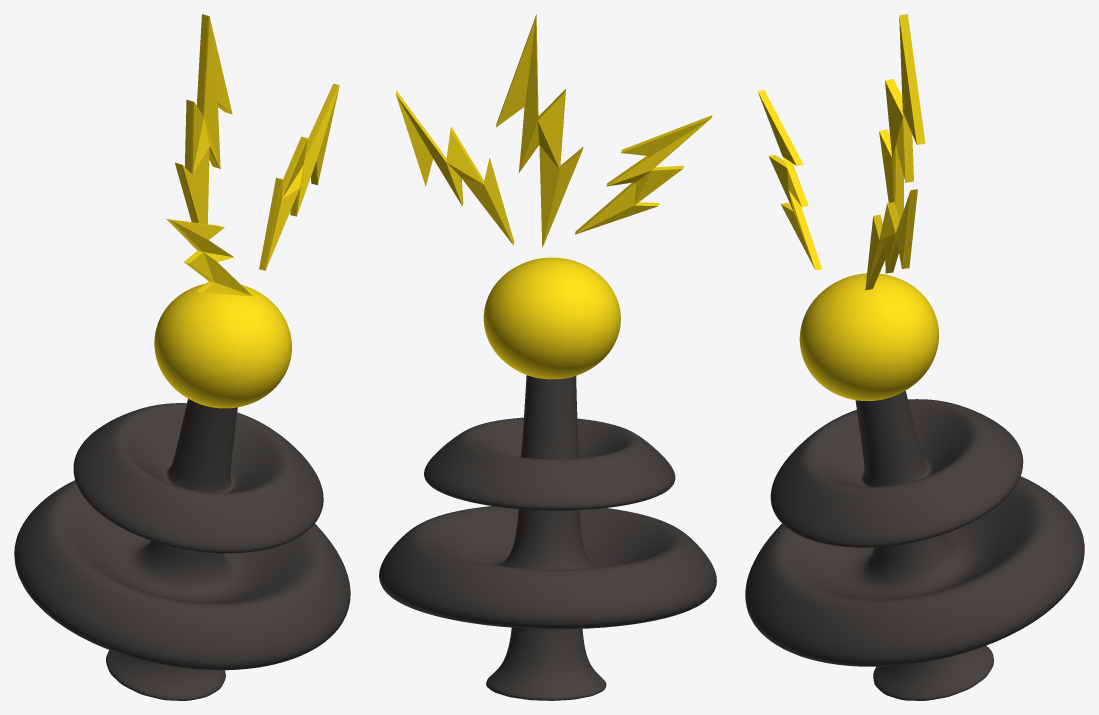
3 views of the same model, side by side, from view 1: azimuth 30°, elevation 25°; view 2: azimuth 150°, elevation 25°; view 3: azimuth 270°, elevation 25° (orthographic). The views are drawn at different scales.
Parts seen in each view (by area): view 1: Elec_hat_04, Elec_hat_03, Elec_hat_03_1, Elec_hat_03_2; view 2: Elec_hat_04, Elec_hat_03, Elec_hat_03_2, Elec_hat_03_1; view 3: Elec_hat_04, Elec_hat_03, Elec_hat_03_1, Elec_hat_03_2.
Boxes of the visible parts, x1,y1,x2,y2 form: Elec_hat_04: (14, 284, 350, 700); Elec_hat_03: (175, 14, 232, 224); Elec_hat_03_1: (259, 83, 339, 270); Elec_hat_03_2: (166, 219, 252, 296); Elec_hat_04: (379, 257, 716, 700); Elec_hat_03: (496, 14, 583, 247); Elec_hat_03_2: (575, 115, 712, 234); Elec_hat_03_1: (395, 90, 514, 245); Elec_hat_04: (745, 273, 1084, 700); Elec_hat_03: (879, 14, 925, 220); Elec_hat_03_1: (865, 189, 917, 290); Elec_hat_03_2: (758, 90, 821, 270).
Size of the model in its own units: 26.38 by 25.34 by 55.82.
